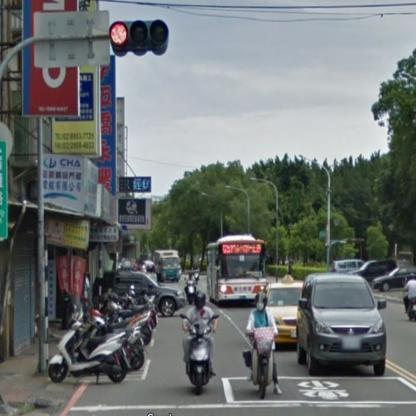Red Light: (108, 18, 170, 56)
